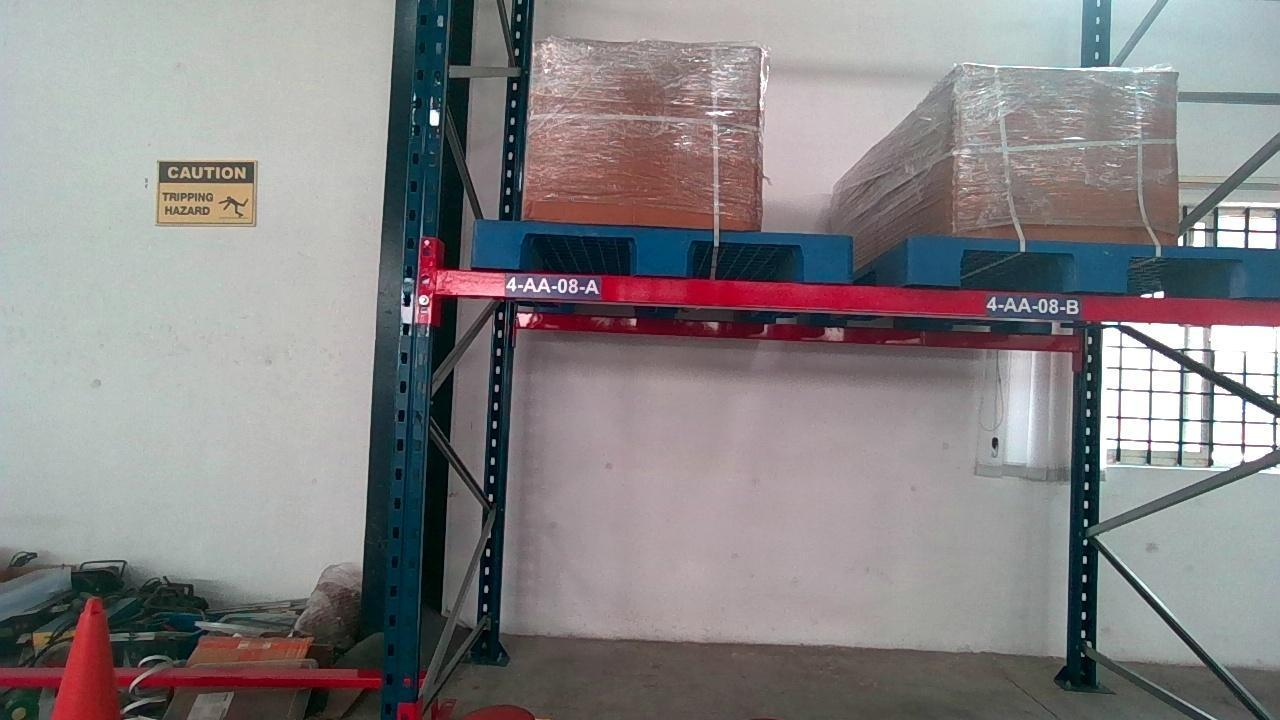h_rack: (429, 269, 1275, 327)
small_pallet: (912, 239, 1277, 291), (476, 225, 854, 274)
